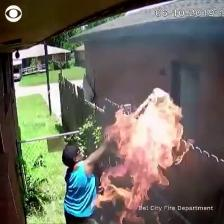person: (63, 141, 109, 223)
